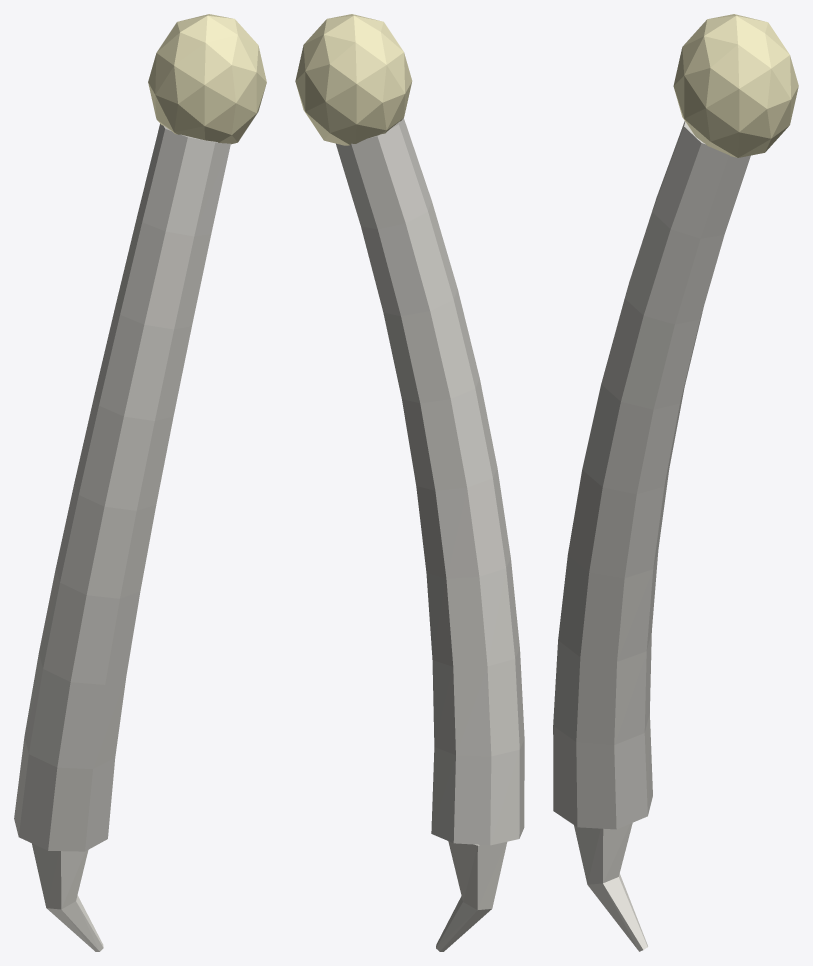
File: beansprout_m.glb
3 renders of one model, left to right at view 1: azimuth 30°, elevation 25°; view 2: azimuth 150°, elevation 25°; view 3: azimuth 330°, elevation 25°, orthographic. The views are drawn at different scales.
Visible parts, largest first — view 1: stem, head, root; view 2: stem, head, root; view 3: stem, head, root.
Part boxes in pixels (x1=…): stem: x1=14, y1=124, x2=230, y2=851; head: x1=148, y1=14, x2=266, y2=144; root: x1=32, y1=843, x2=103, y2=951; stem: x1=336, y1=118, x2=524, y2=845; head: x1=295, y1=14, x2=412, y2=145; root: x1=436, y1=841, x2=507, y2=951; stem: x1=553, y1=121, x2=750, y2=829; head: x1=673, y1=14, x2=798, y2=157; root: x1=574, y1=823, x2=647, y2=951.
Size of the model in its own units: 0.0225 by 0.0856 by 0.0107.
